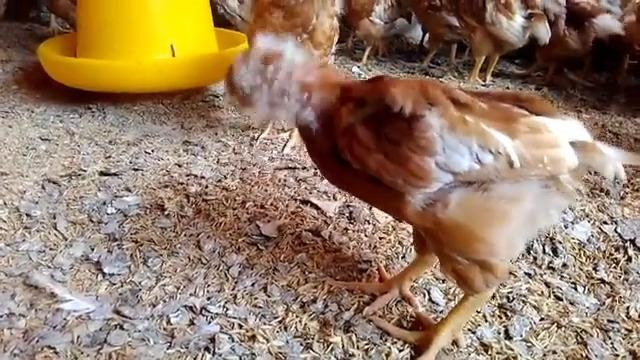AbNormal: (228, 30, 636, 344)
